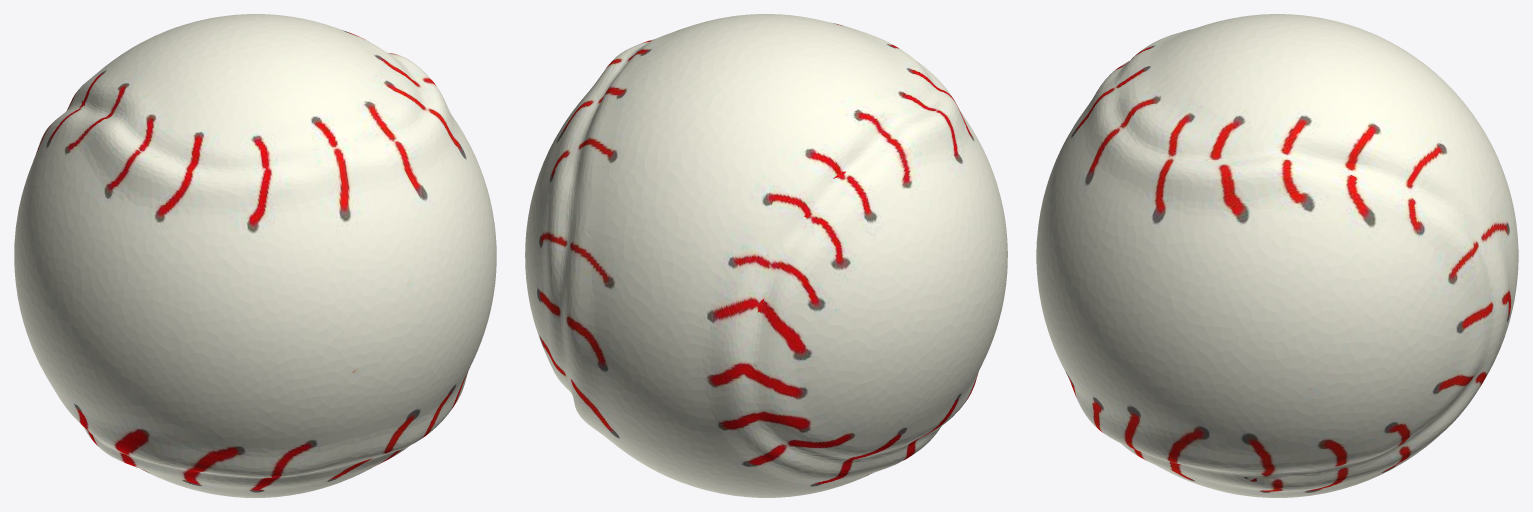
The model's file is pelota-yadier.glb.
3 renders of one model, left to right at view 1: azimuth 30°, elevation 25°; view 2: azimuth 150°, elevation 25°; view 3: azimuth 270°, elevation 25°, orthographic.
Visible parts, largest first — view 1: pelota; view 2: pelota; view 3: pelota.
Part boxes in pixels (x1,y1,x2,y2): pelota: [14, 14, 496, 497]; pelota: [525, 14, 1007, 497]; pelota: [1036, 14, 1518, 497].
Bounding box in the file's own units: 1.97 × 1.98 × 1.97.
Materials: 1 (1 with a texture image).
